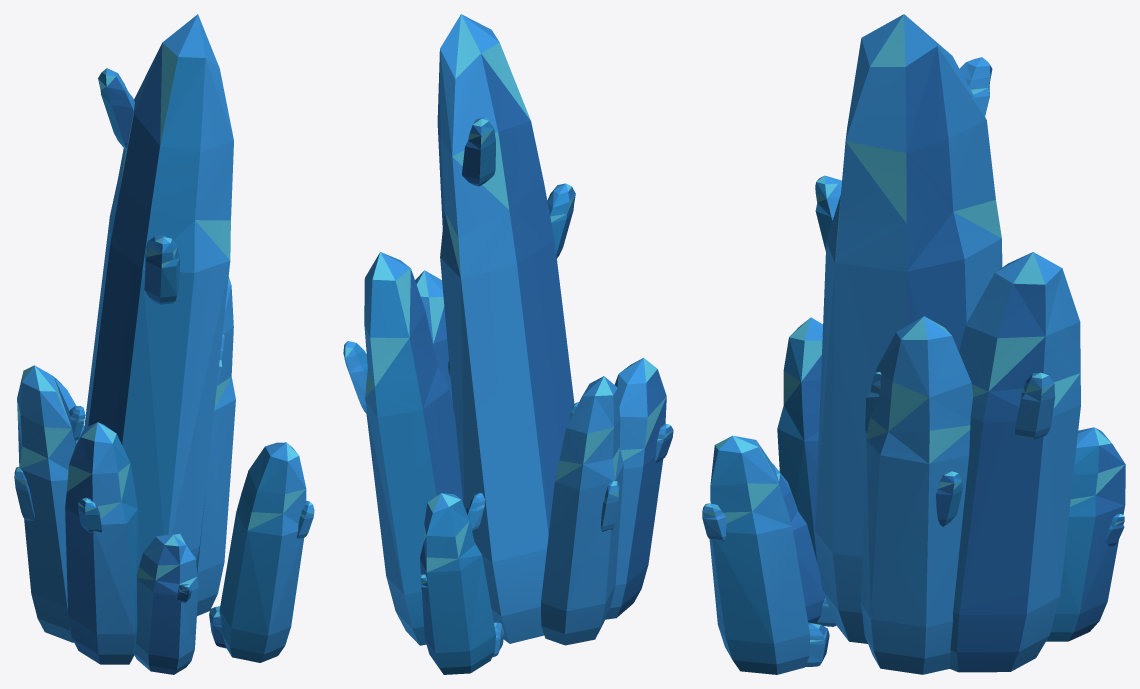
File: azure-crown.glb
3 views of the same model, side by side, from view 1: azimuth 30°, elevation 25°; view 2: azimuth 150°, elevation 25°; view 3: azimuth 270°, elevation 25° (orthographic). The views are drawn at different scales.
Parts seen in each view (by area): view 1: azure-crown grown prism 00, azure-crown grown prism 02, azure-crown grown prism 04, azure-crown grown prism 05, azure-crown grown prism 07, azure-crown grown prism 01, azure-crown attached growth 00-01, azure-crown attached growth 00-02, azure-crown attached growth 05-00, azure-crown attached growth 02-00; view 2: azure-crown grown prism 00, azure-crown grown prism 06, azure-crown grown prism 05, azure-crown grown prism 03, azure-crown grown prism 02, azure-crown grown prism 01, azure-crown attached growth 00-02, azure-crown attached growth 00-01, azure-crown attached growth 06-00, azure-crown attached growth 05-00; view 3: azure-crown grown prism 00, azure-crown grown prism 06, azure-crown grown prism 01, azure-crown grown prism 04, azure-crown grown prism 03, azure-crown grown prism 02, azure-crown grown prism 07, azure-crown attached growth 06-00, azure-crown attached growth 00-01, azure-crown attached growth 01-00, azure-crown attached growth 00-02, azure-crown root crust 03 (+1 smaller).
Part boxes in pixels (left/top/right/bottom): azure-crown grown prism 00: left=84, top=14, right=233, bottom=561; azure-crown grown prism 02: left=65, top=422, right=140, bottom=664; azure-crown grown prism 04: left=219, top=442, right=306, bottom=662; azure-crown grown prism 05: left=17, top=365, right=76, bottom=642; azure-crown grown prism 07: left=134, top=533, right=198, bottom=674; azure-crown grown prism 01: left=196, top=276, right=235, bottom=615; azure-crown attached growth 00-01: left=144, top=235, right=179, bottom=304; azure-crown attached growth 00-02: left=98, top=68, right=134, bottom=149; azure-crown attached growth 05-00: left=14, top=466, right=34, bottom=520; azure-crown attached growth 02-00: left=78, top=497, right=101, bottom=533; azure-crown grown prism 00: left=437, top=14, right=574, bottom=643; azure-crown grown prism 06: left=364, top=252, right=463, bottom=645; azure-crown grown prism 05: left=541, top=376, right=623, bottom=645; azure-crown grown prism 03: left=420, top=493, right=495, bottom=674; azure-crown grown prism 02: left=605, top=358, right=666, bottom=619; azure-crown grown prism 01: left=415, top=270, right=453, bottom=407; azure-crown attached growth 00-02: left=462, top=116, right=495, bottom=186; azure-crown attached growth 00-01: left=547, top=183, right=575, bottom=257; azure-crown attached growth 06-00: left=343, top=341, right=367, bottom=413; azure-crown attached growth 05-00: left=600, top=481, right=619, bottom=531; azure-crown grown prism 00: left=815, top=14, right=1002, bottom=643; azure-crown grown prism 06: left=949, top=252, right=1080, bottom=672; azure-crown grown prism 01: left=861, top=316, right=972, bottom=674; azure-crown grown prism 04: left=709, top=435, right=809, bottom=674; azure-crown grown prism 03: left=1046, top=427, right=1125, bottom=641; azure-crown grown prism 02: left=777, top=317, right=822, bottom=573; azure-crown grown prism 07: left=773, top=464, right=825, bottom=623; azure-crown attached growth 06-00: left=1015, top=372, right=1055, bottom=440; azure-crown attached growth 00-01: left=815, top=175, right=841, bottom=251; azure-crown attached growth 01-00: left=936, top=471, right=962, bottom=526; azure-crown attached growth 00-02: left=959, top=57, right=992, bottom=116; azure-crown root crust 03: left=805, top=622, right=829, bottom=666.
Size of the model in its own units: 2.41 by 5.98 by 3.49.
